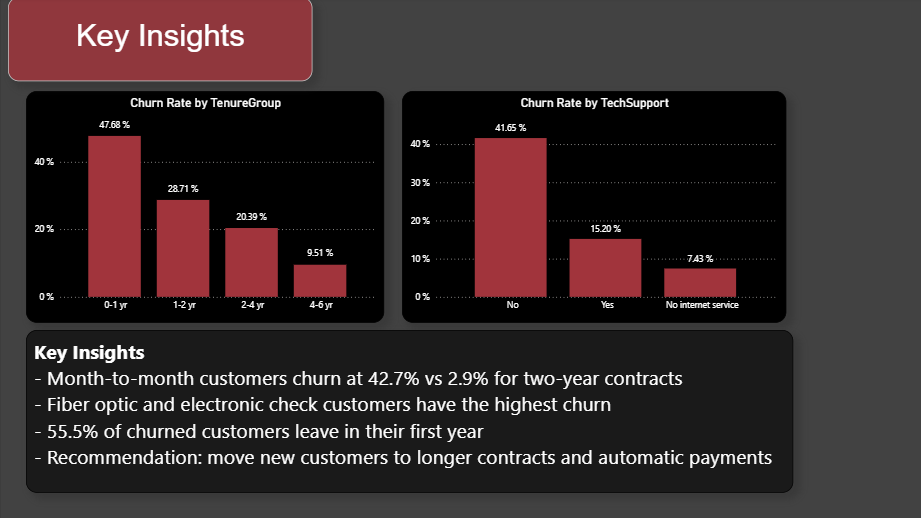

Layout of this report page (visuals, bound fields, positions):
{"tool":"powerbi","page":{"name":"Page 2","canvas":[1280,720],"ordinal":1},"visuals":[{"type":"clusteredColumnChart","fields":{"Y":["churn_clean.Churn Rate"],"Category":["churn_clean.TenureGroup"]},"box":[34.4,129.4,492.7,319.3],"z":0},{"type":"clusteredColumnChart","fields":{"Category":["churn_clean.TechSupport"],"Y":["churn_clean.Churn Rate"]},"box":[551.9,129.4,528.5,319.3],"z":1000},{"type":"textbox","box":[34.4,458.3,1055.7,224.3],"z":2000},{"type":"textbox","box":[10.1,0,419.3,115.7],"z":3000}]}

Visuals, with their boxes in screenshot pixels (x1, y1, x2, y2), scaled from the page's 1280x720 canvas onto the 921x518 screenshot:
clusteredColumnChart - churn_clean.Churn Rate x churn_clean.TenureGroup: rect(25, 93, 379, 323)
clusteredColumnChart - churn_clean.TechSupport x churn_clean.Churn Rate: rect(397, 93, 777, 323)
textbox: rect(25, 330, 784, 491)
textbox: rect(7, 0, 309, 83)
